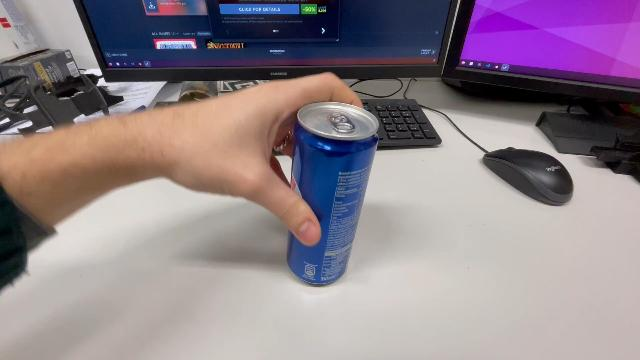Pepsi: (282, 98, 382, 290)
